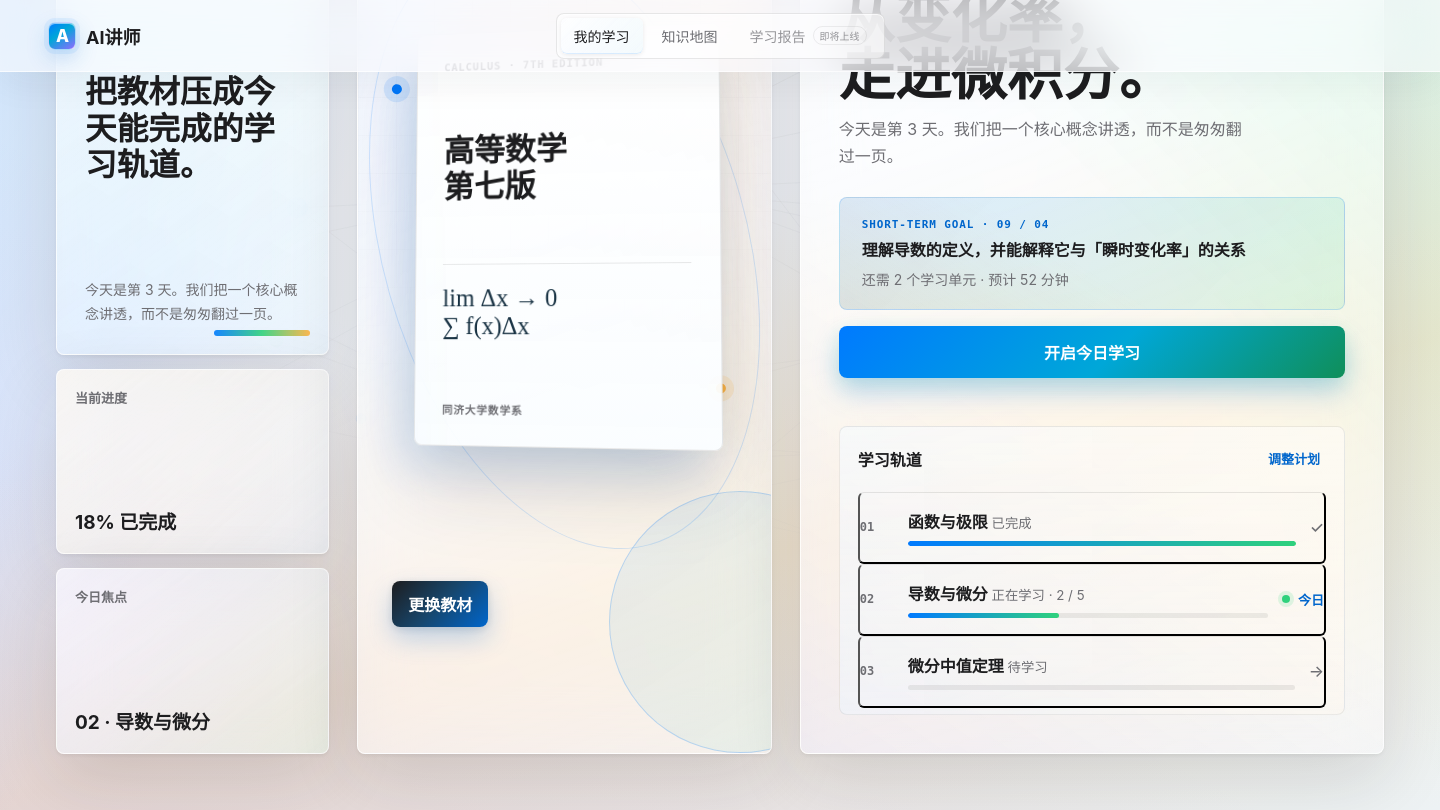
Test case: 删除教材 › 确认后调删除接口、重读列表并提示
The image size is (1440, 810).
(page scrolled)
Click the button "更换教材" at (440, 604), box [392,581,488,627]
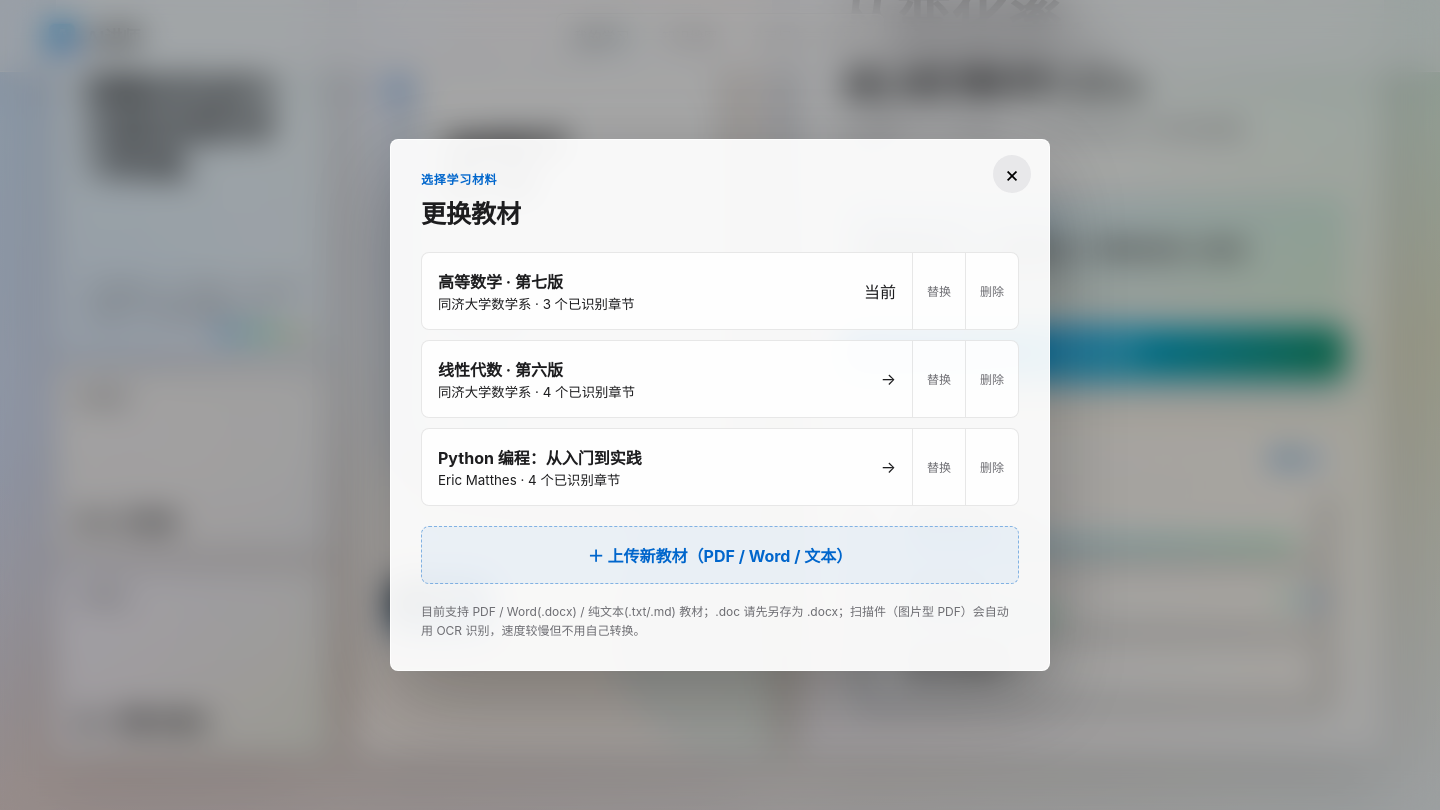
Click the button with aria-label "删除《线性代数》" at (992, 379), box [965,341,1018,417]
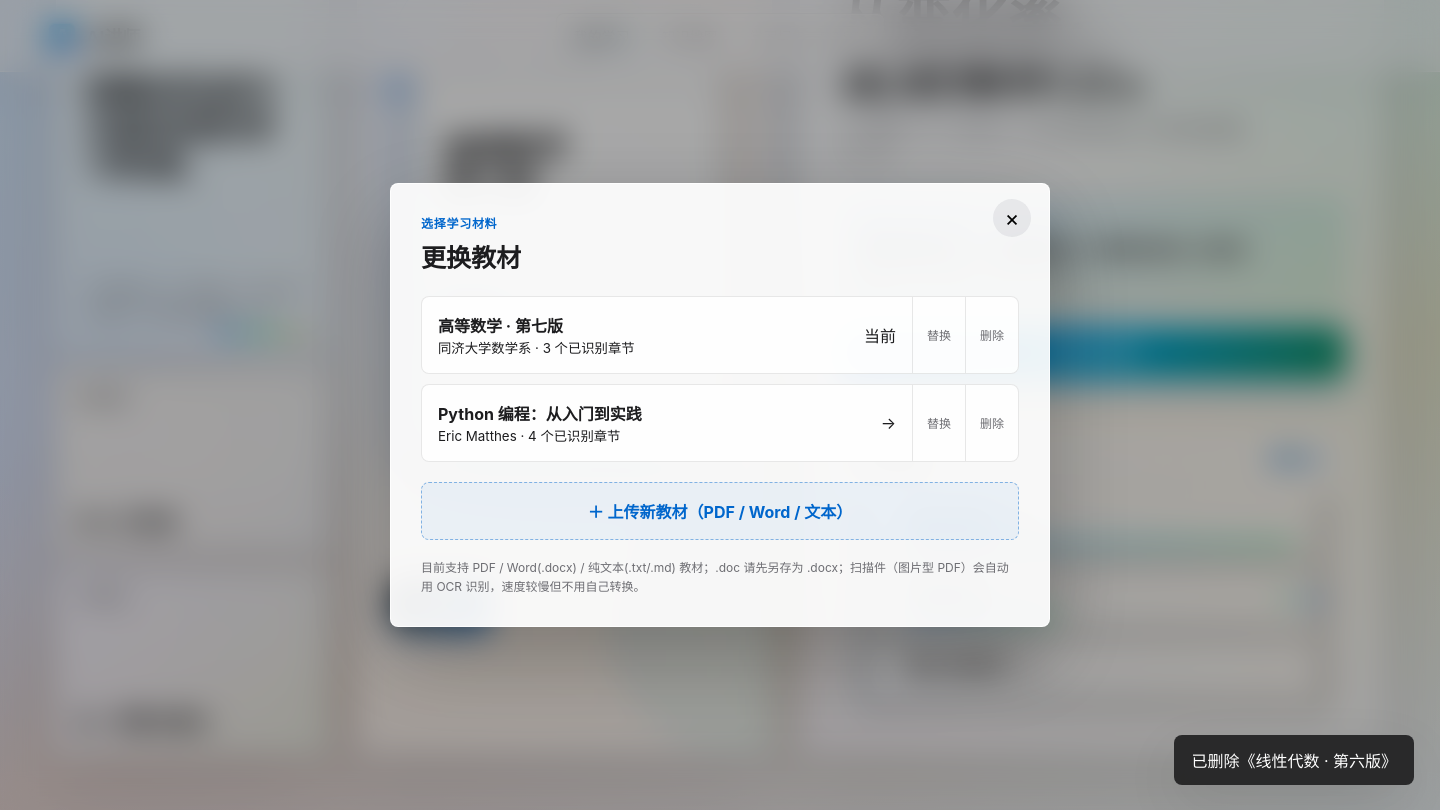
Check: the text "已删除《线性代数 · 第六版》" is shown, box [1174,735,1414,785]
Check: the button with test id "book-choice-linalg6" is gone
